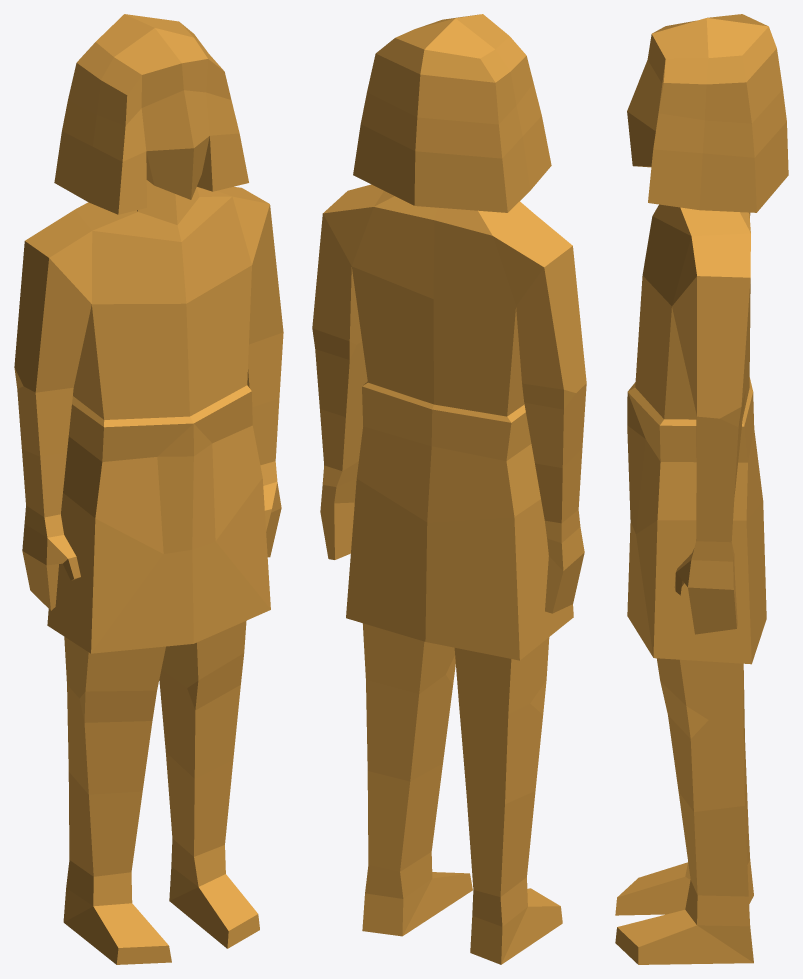
The model's file is man-egypt-soldier.fbx.
3 views of the same model, side by side, from view 1: azimuth 30°, elevation 25°; view 2: azimuth 150°, elevation 25°; view 3: azimuth 270°, elevation 25° (orthographic).
Parts seen in each view (by area): view 1: man-egypt-soldier; view 2: man-egypt-soldier; view 3: man-egypt-soldier.
Boxes of the visible parts, bbox=[...] form: man-egypt-soldier: bbox=[14, 14, 283, 964]; man-egypt-soldier: bbox=[312, 14, 586, 964]; man-egypt-soldier: bbox=[615, 14, 788, 964].
Size of the model in its own units: 0.5411 by 1.85 by 0.3196.
